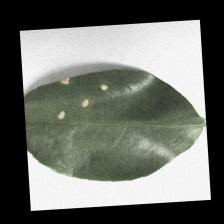greening: (54, 72, 110, 122)
